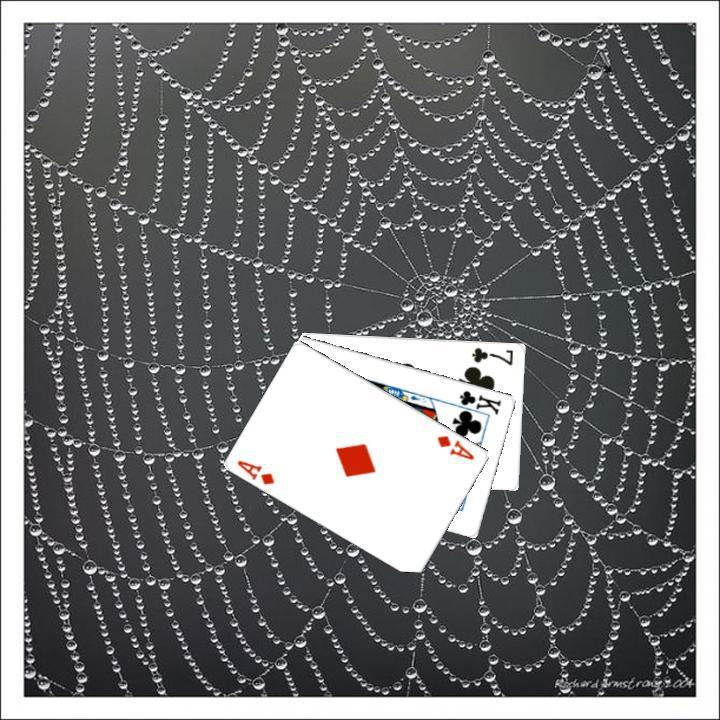7: (468, 343, 516, 367)
A: (433, 430, 477, 462), (233, 455, 277, 487)
K: (449, 386, 503, 419)
